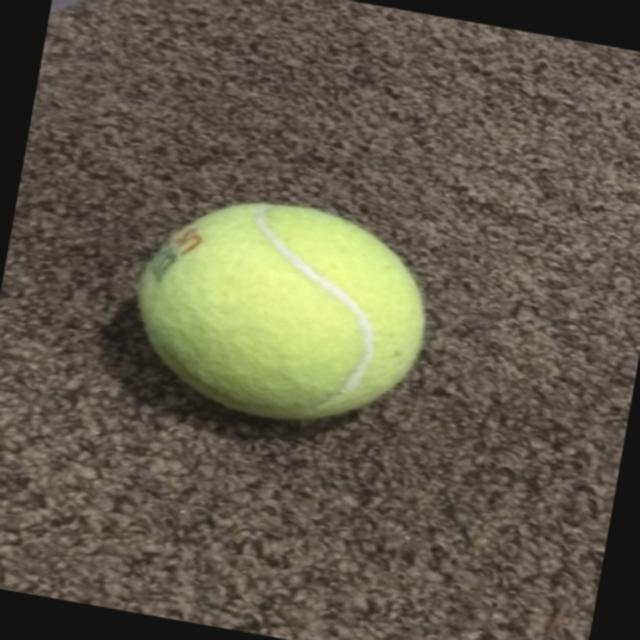tennis-ball: (114, 178, 444, 443)
